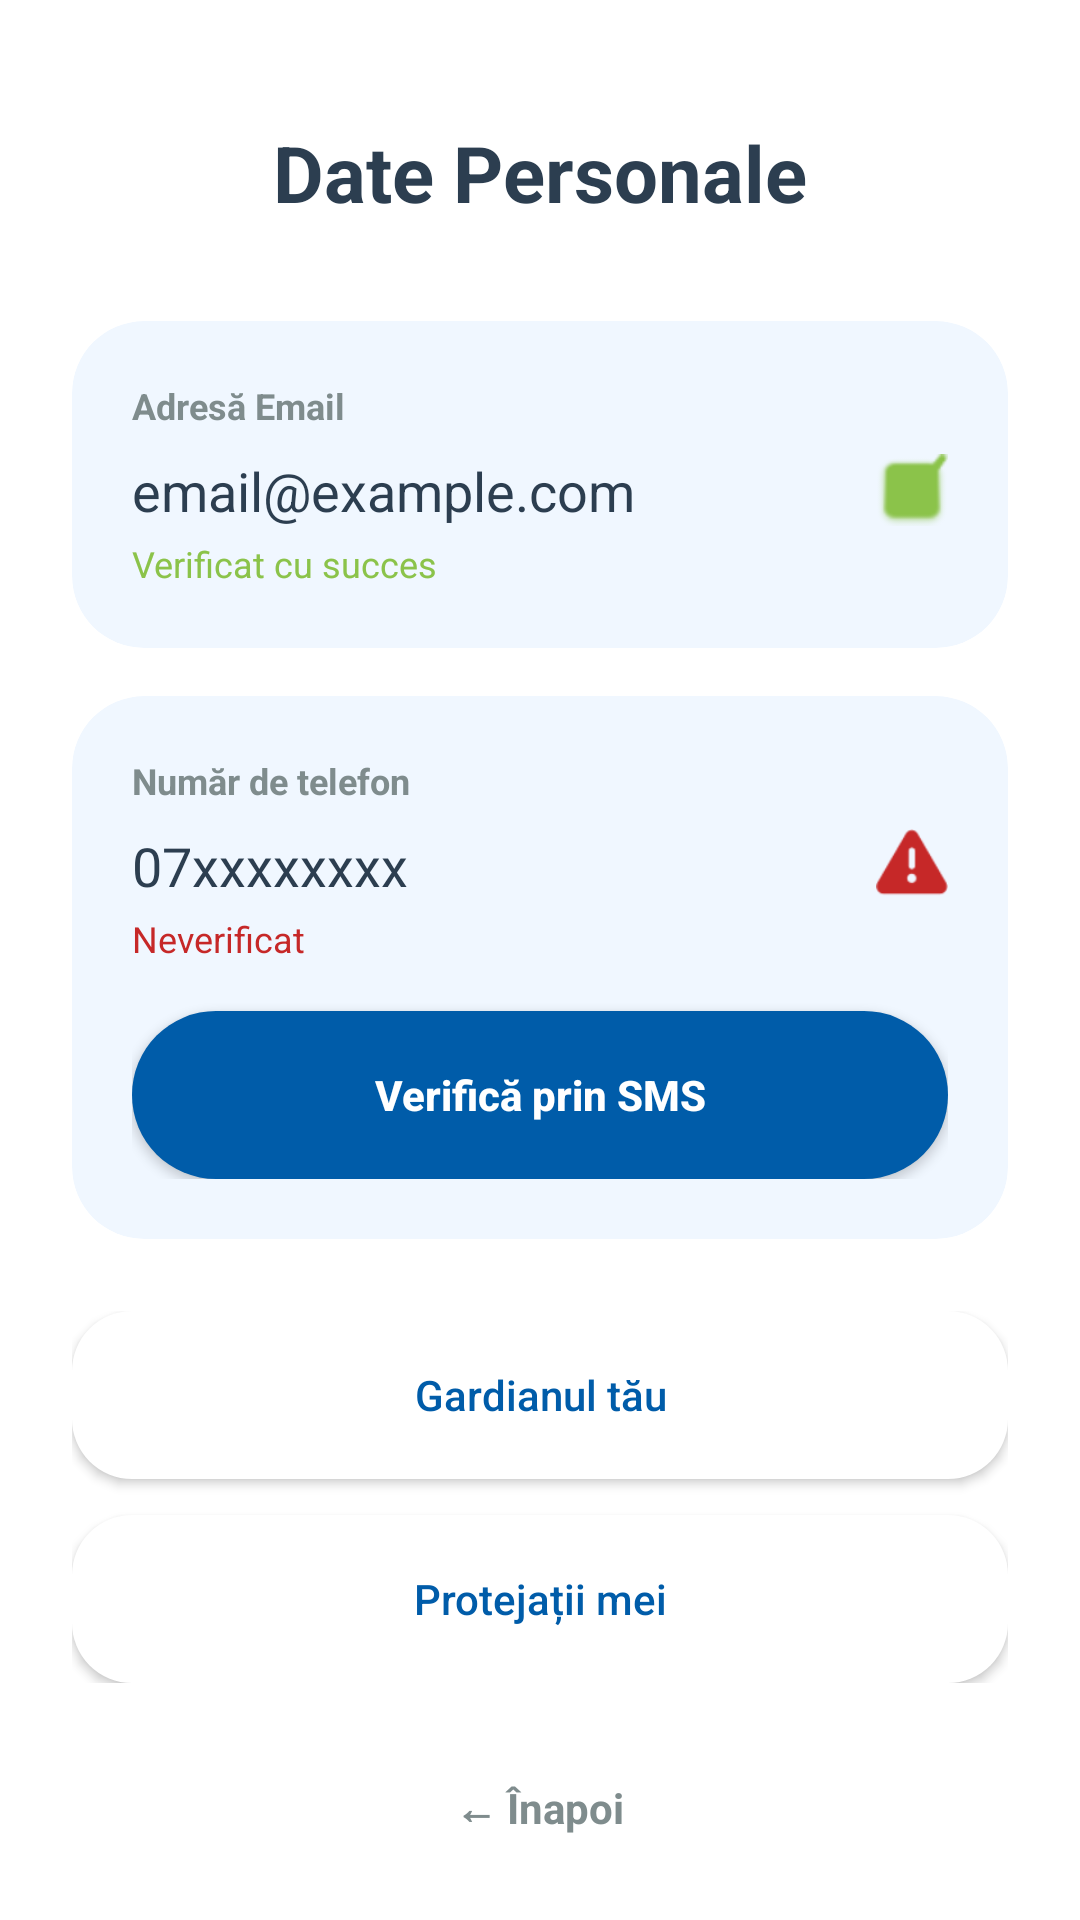

Screen size 1080px×1920px. Icon name, then its center in pixels as (x=x, y=y):
alert: (x=912, y=862)
